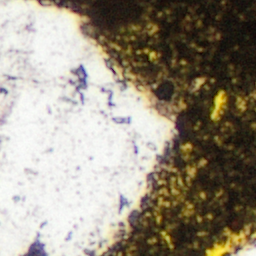cement_matrix: (41, 0, 255, 255), (73, 67, 86, 90), (214, 95, 225, 114), (28, 248, 42, 255)
cracks: (206, 231, 255, 255), (215, 96, 224, 113)
gravel_crushed_stones: (0, 0, 175, 255), (72, 66, 87, 91), (235, 244, 255, 255)
